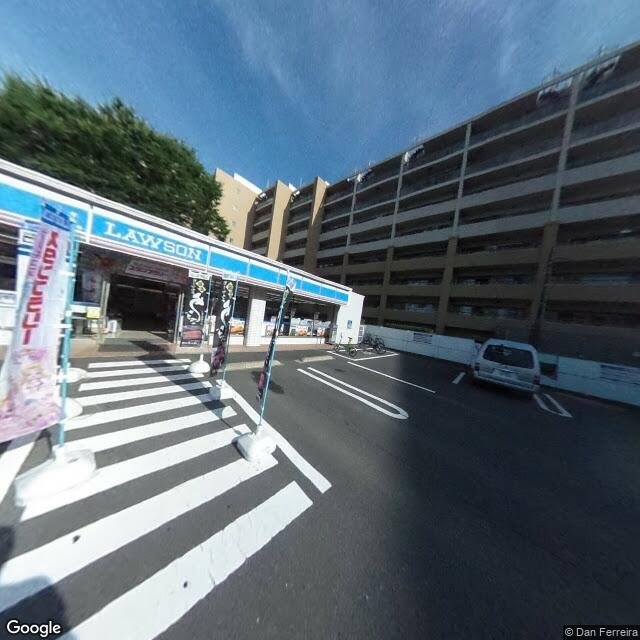lawson: (2, 166, 351, 309)
